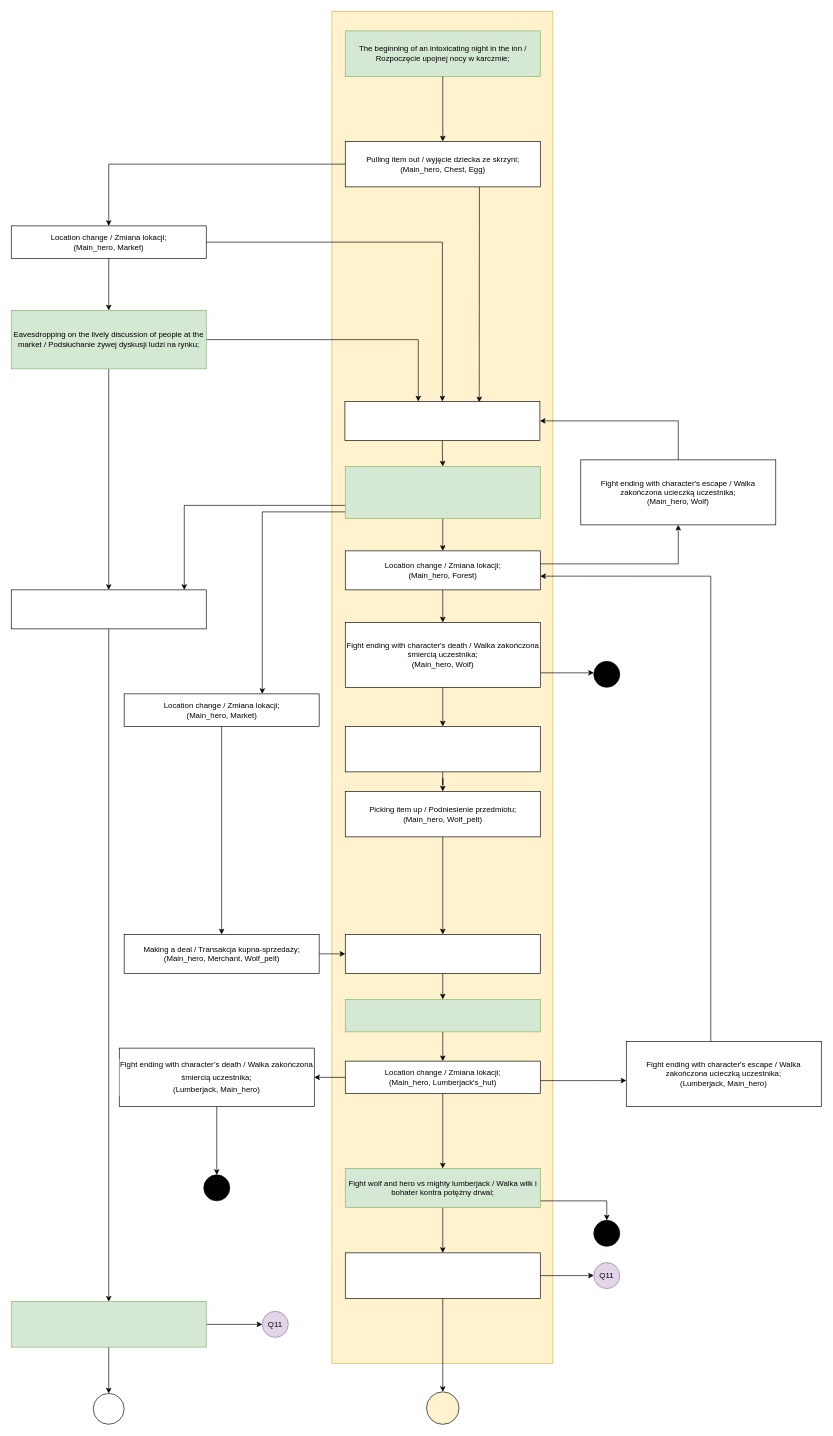
Image size: 833x1436. Some labels were removed from this diagram. The shapes that lost their labels are listed below. From the top down, each one's centre as x and y in pixels, then its label:
At pixel 442 420: "Location change / Zmiana lokacji; (Main_hero, Wizard's_hut)".
At pixel 442 492: "Argument between hero and wizard / Kłótnia bohatera z czarodziejem;".
At pixel 108 609: "Location change / Zmiana lokacji; (Main_hero, Peasant's_hut)".
At pixel 442 749: "Turning a dead wolf into wolf pelt / Zamiana martwego wilka w skórę wilka".
At pixel 442 953: "Putting item in / Włożenie przedmiotu; (Egg, Wolf_pelt)".
At pixel 442 1015: "Spawning a helping wolf from an egg / Wyczarowanie pomocnego wilka z jajka;".
At pixel 442 1275: "Picking item up / Podniesienie przedmiotu; (Main_hero, Compass)".
At pixel 108 1324: "Giving an egg-child to a poor family / Oddanie jajko-dziecka biednej rodzinie;".
